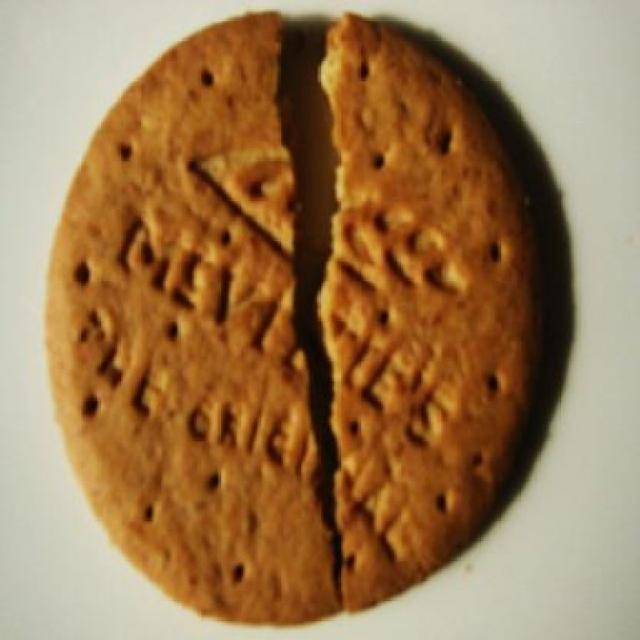Cookie: (43, 6, 540, 628)
